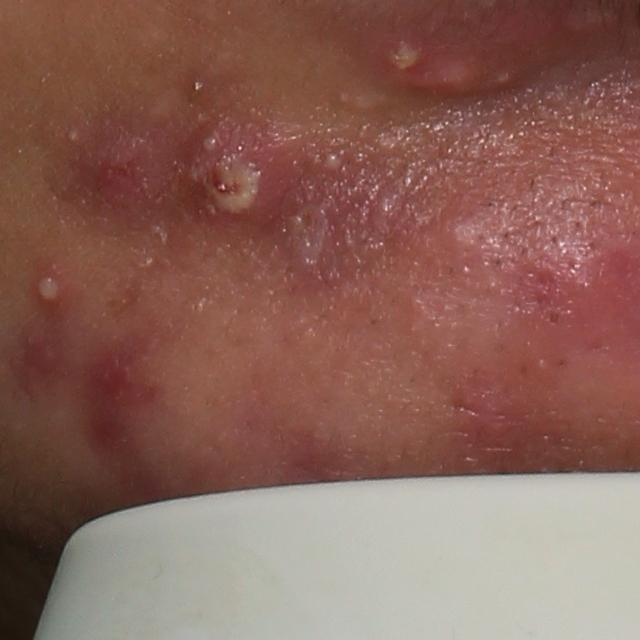comedo: (141, 253, 160, 270)
hypertrophic_scar: (347, 92, 388, 116)
nodule: (174, 113, 319, 238)
papule: (78, 135, 163, 224), (421, 47, 480, 106), (437, 210, 487, 262)
pustule: (285, 199, 342, 273), (30, 268, 68, 321), (386, 35, 424, 78), (316, 148, 348, 178), (490, 66, 514, 88)
